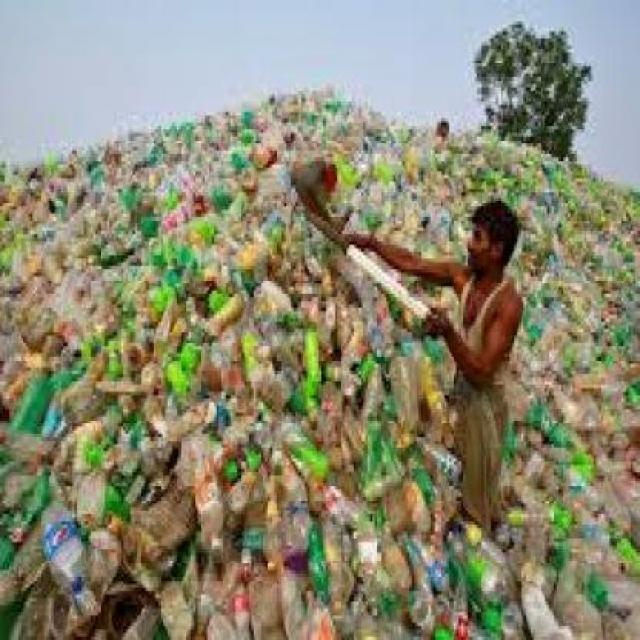garbage: (0, 154, 286, 636), (526, 165, 638, 638), (282, 479, 445, 636), (435, 521, 554, 636), (177, 119, 426, 154), (231, 82, 376, 120), (463, 127, 530, 176)
